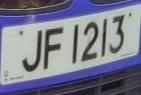1: (69, 17, 83, 73), (99, 12, 111, 62)
2: (80, 14, 101, 70)
3: (109, 9, 128, 59)
F: (42, 20, 65, 77)
J: (20, 23, 44, 78)
